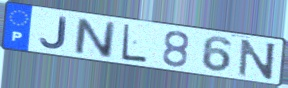6: (200, 35, 234, 73)
8: (161, 30, 191, 68)
J: (39, 16, 68, 51)
L: (121, 22, 149, 64)
N: (74, 16, 117, 60), (237, 38, 279, 81)
